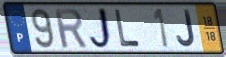1: (152, 7, 171, 50)
9: (29, 7, 56, 50)
J: (87, 5, 115, 52), (175, 8, 197, 49)
L: (113, 8, 142, 49)
R: (52, 7, 89, 50)
